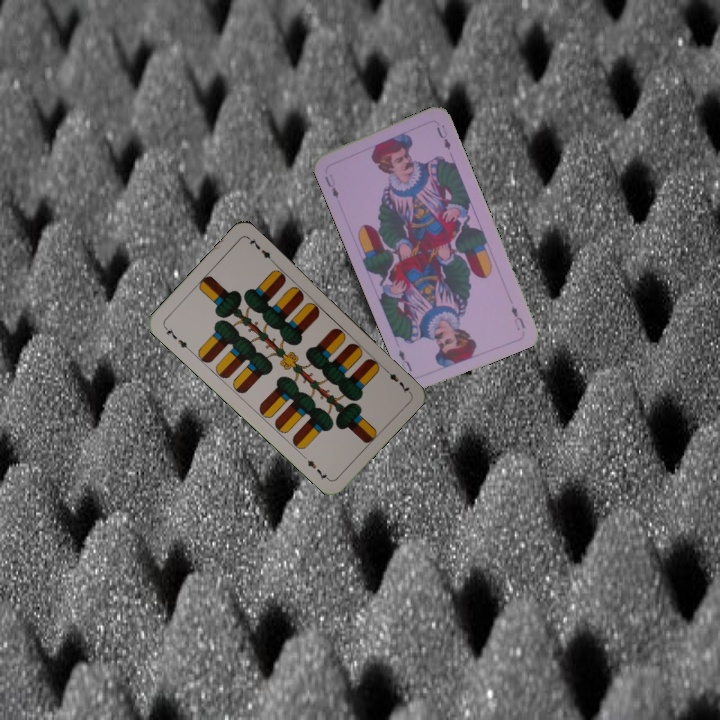E7: (380, 363, 412, 396), (160, 323, 193, 354)
EU: (507, 301, 528, 333), (321, 170, 341, 201)
